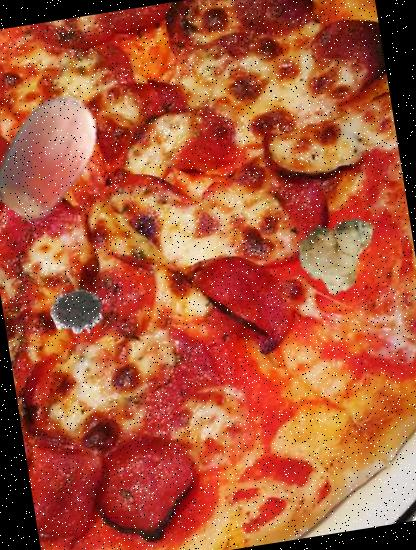Ginger: (293, 202, 391, 300)
Hazelnut: (0, 78, 123, 229)
Rambutan: (48, 284, 107, 342)
